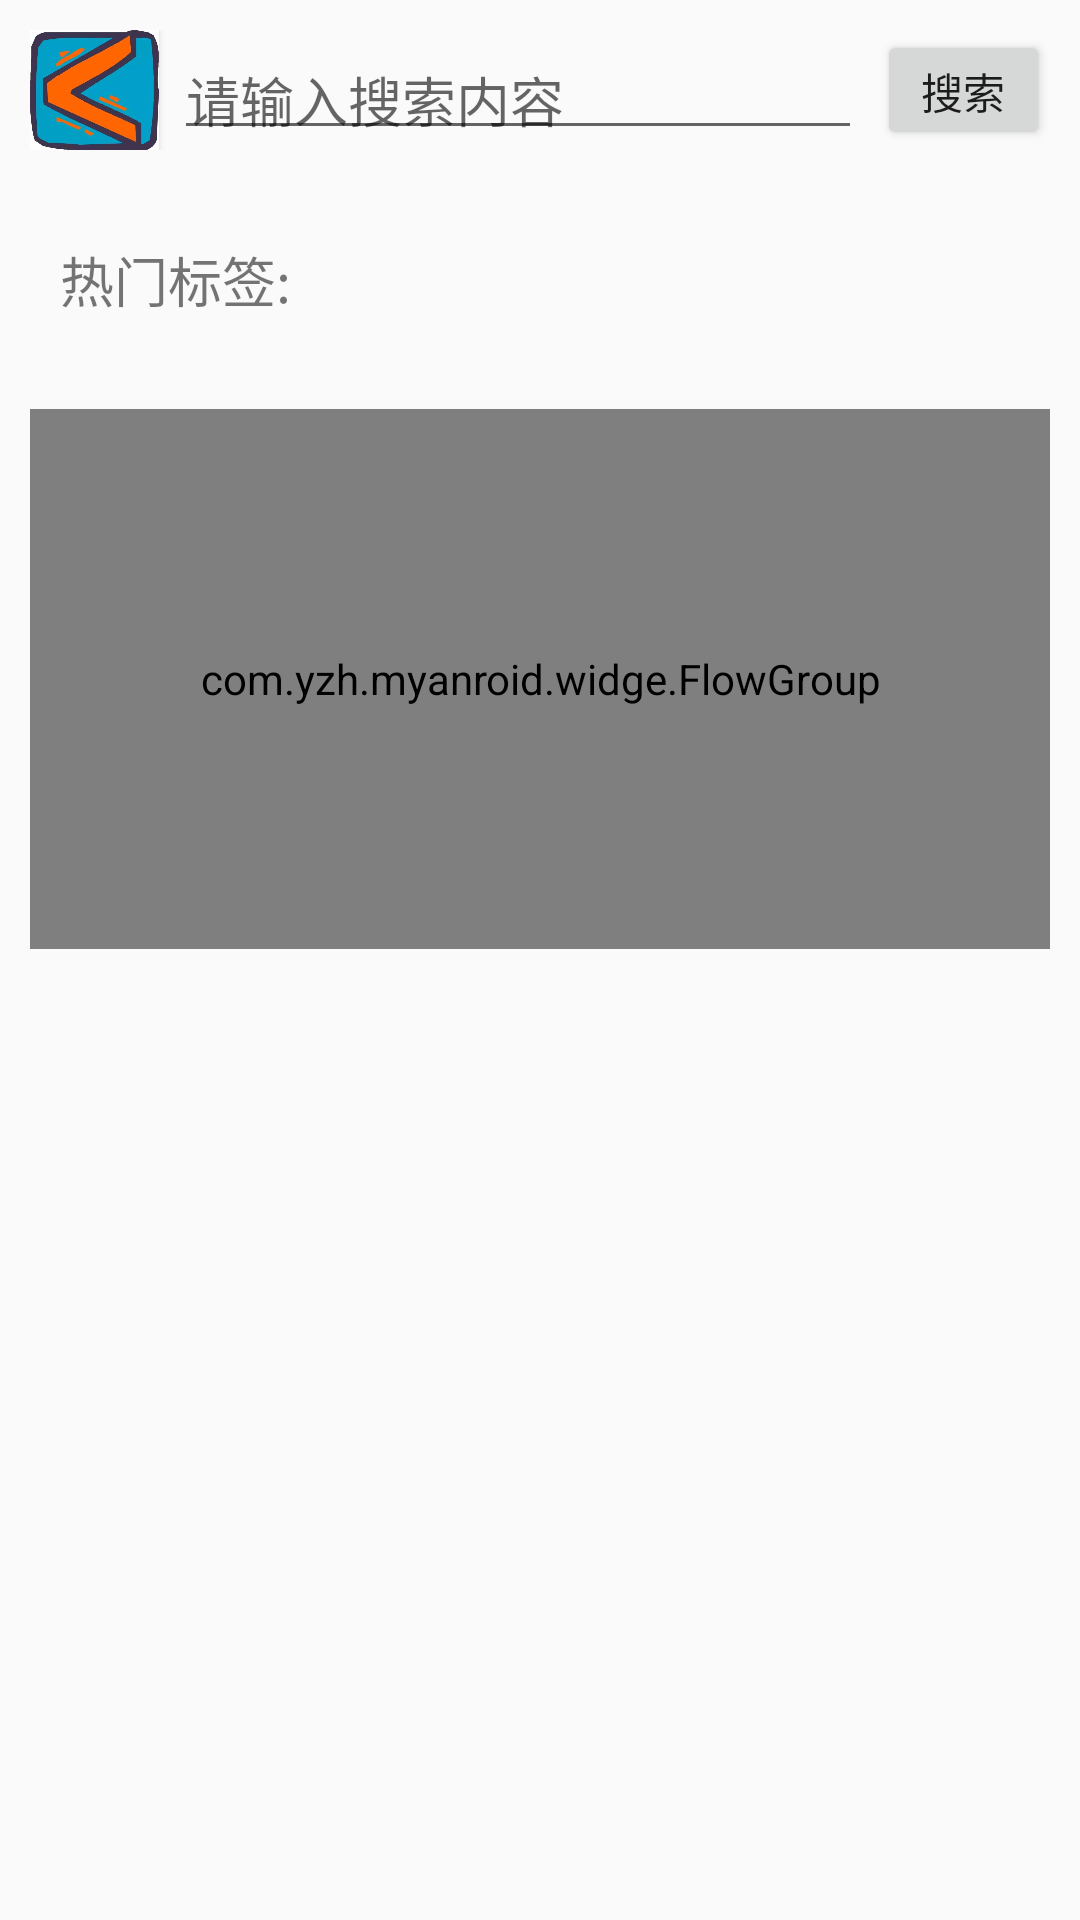

Where icons sit on this 1080 × 1920 app screen, as (x1, y1, x2, y2):
search back: (30, 30, 159, 150)
